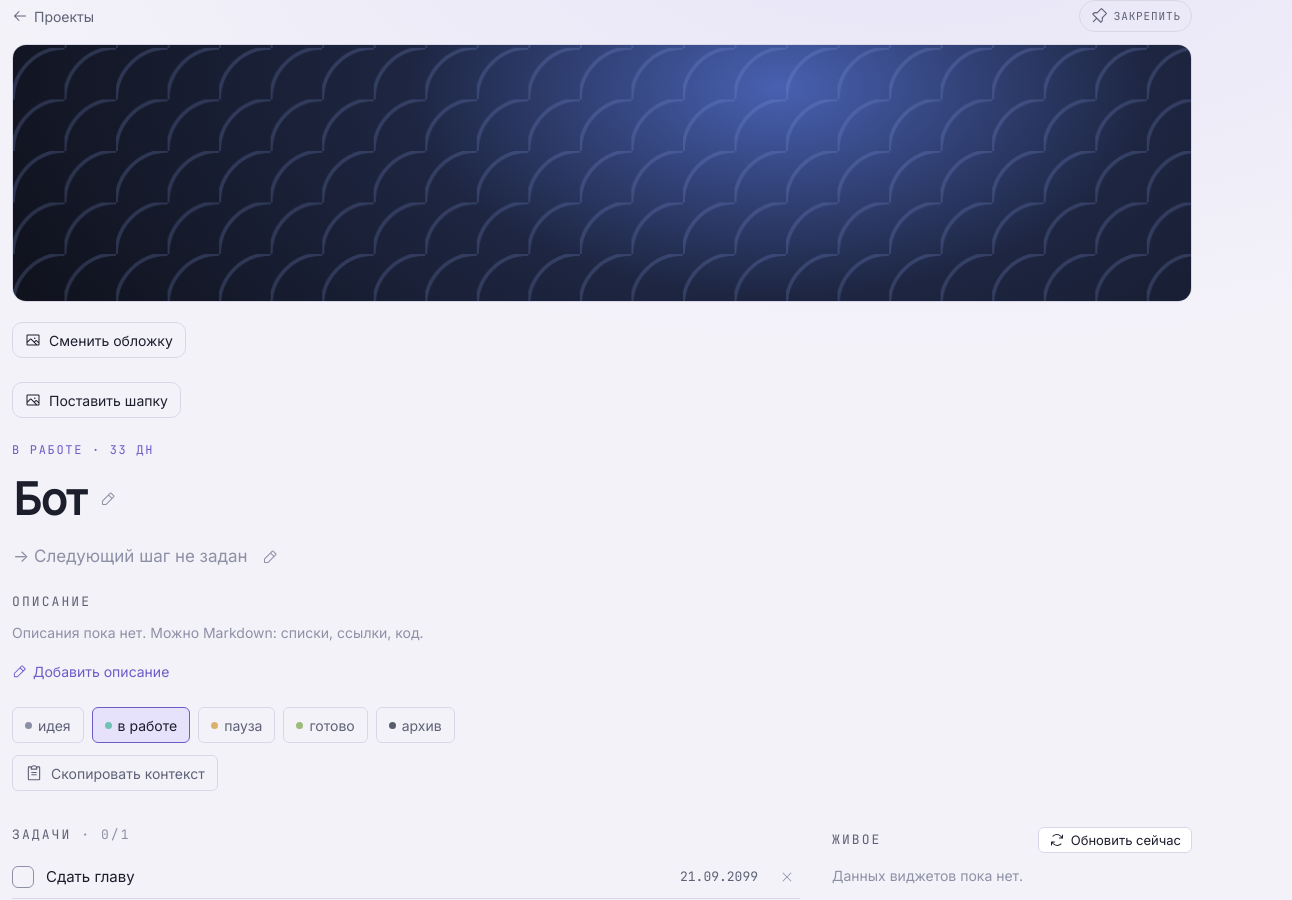
карточка проекта: задачи › ошибка записи откатывает показанную правку и видна под блоком задач
Click the checkbox named "Сделано: Сдать главу" at (23, 877), box [12,866,34,888]
(page scrolled)
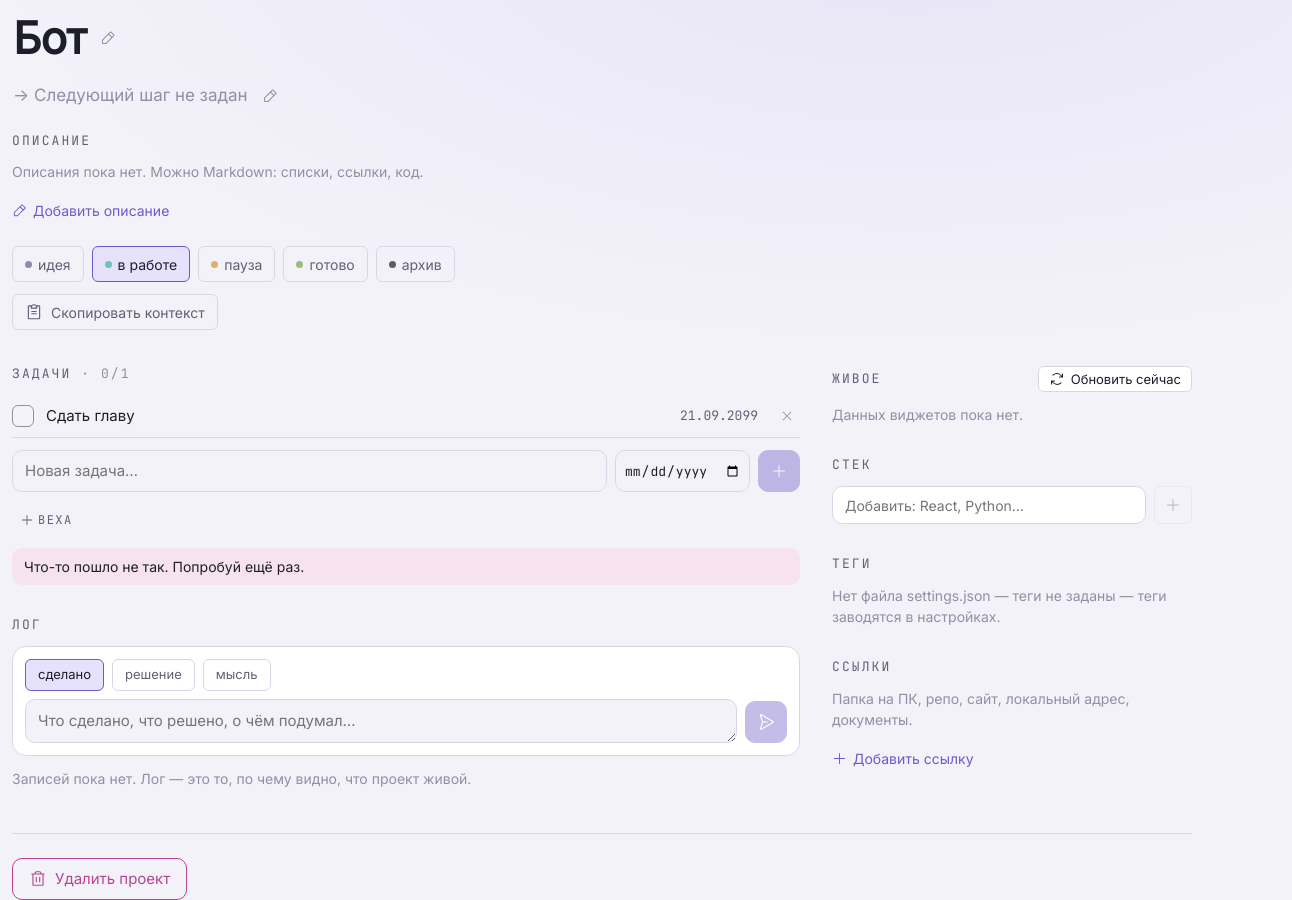
Expected: the message "Что-то пошло не так. Попробуй ещё раз." is shown, [12,548,800,585]
